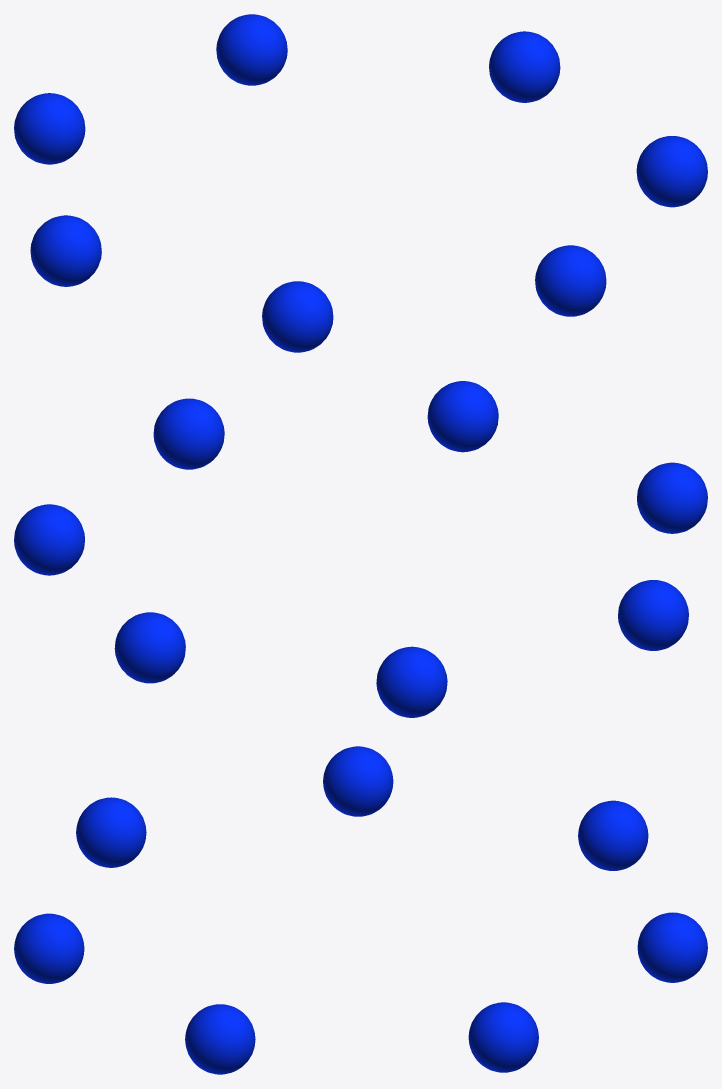
3 renders of one model, top to bottom at view 1: azimuth 30°, elevation 25°; view 2: azimuth 150°, elevation 25°; view 3: azimuth 270°, elevation 25°, orthographic.
Visible parts, largest first — view 1: Sphere046; view 2: Sphere046; view 3: Sphere046.
Part boxes in pixels (box(x1,y1,x2,y2)): Sphere046: box(14, 14, 707, 352); Sphere046: box(14, 381, 707, 717); Sphere046: box(14, 746, 707, 1074).
Size of the model in its own units: 79.31 by 8.22 by 80.89.
